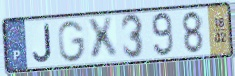3: (119, 11, 146, 62)
8: (180, 10, 206, 55)
9: (151, 10, 176, 59)
G: (57, 19, 87, 64)
J: (31, 22, 54, 64)
X: (85, 16, 120, 63)
